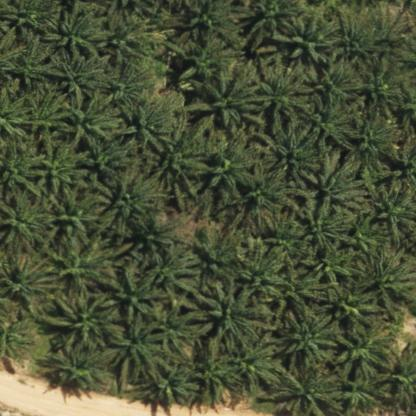Palm Oil: (143, 104, 214, 212), (188, 281, 276, 353), (185, 58, 268, 131), (42, 284, 126, 355), (105, 309, 168, 394), (298, 148, 370, 221), (233, 159, 309, 227), (253, 119, 323, 190), (247, 54, 317, 125), (94, 169, 169, 234), (229, 233, 293, 308), (201, 123, 261, 202), (43, 238, 123, 296), (332, 316, 399, 385), (352, 244, 416, 316), (87, 10, 166, 66), (60, 84, 124, 152), (342, 104, 407, 170), (42, 333, 115, 391), (298, 92, 366, 154), (40, 3, 116, 58), (305, 49, 370, 113), (137, 243, 204, 303), (272, 11, 342, 68), (276, 309, 340, 371), (150, 289, 206, 359), (274, 253, 335, 317), (102, 266, 167, 326), (184, 221, 242, 288), (114, 93, 174, 156), (227, 330, 282, 396), (165, 36, 236, 86), (298, 195, 356, 255), (322, 278, 384, 334), (49, 54, 112, 108), (126, 209, 192, 260), (22, 89, 72, 156), (134, 358, 200, 408), (353, 56, 406, 118), (46, 188, 98, 250), (103, 62, 154, 122), (12, 34, 65, 90), (193, 347, 242, 407), (76, 135, 131, 186), (302, 240, 357, 287), (30, 141, 77, 194), (333, 8, 373, 68)
